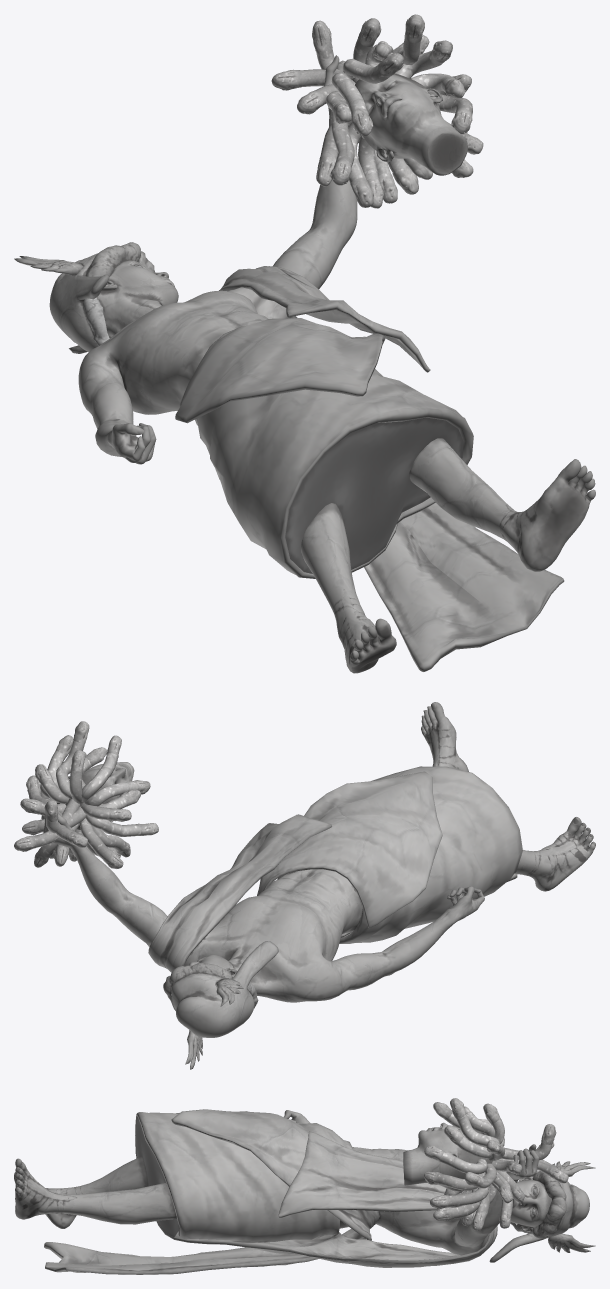
Rendered from perseus_statue_done.fbx.
3 views of the same model, one above another, from view 1: azimuth 30°, elevation 25°; view 2: azimuth 150°, elevation 25°; view 3: azimuth 270°, elevation 25° (orthographic). The views are drawn at different scales.
Visible parts, largest first — view 1: Perseu_Statue_done; view 2: Perseu_Statue_done; view 3: Perseu_Statue_done.
Part boxes in pixels (bbox=[...]): Perseu_Statue_done: bbox=[14, 14, 595, 673]; Perseu_Statue_done: bbox=[14, 702, 595, 1069]; Perseu_Statue_done: bbox=[14, 1098, 595, 1274].
Size of the model in its own units: 0.2976 by 0.4567 by 0.215.
